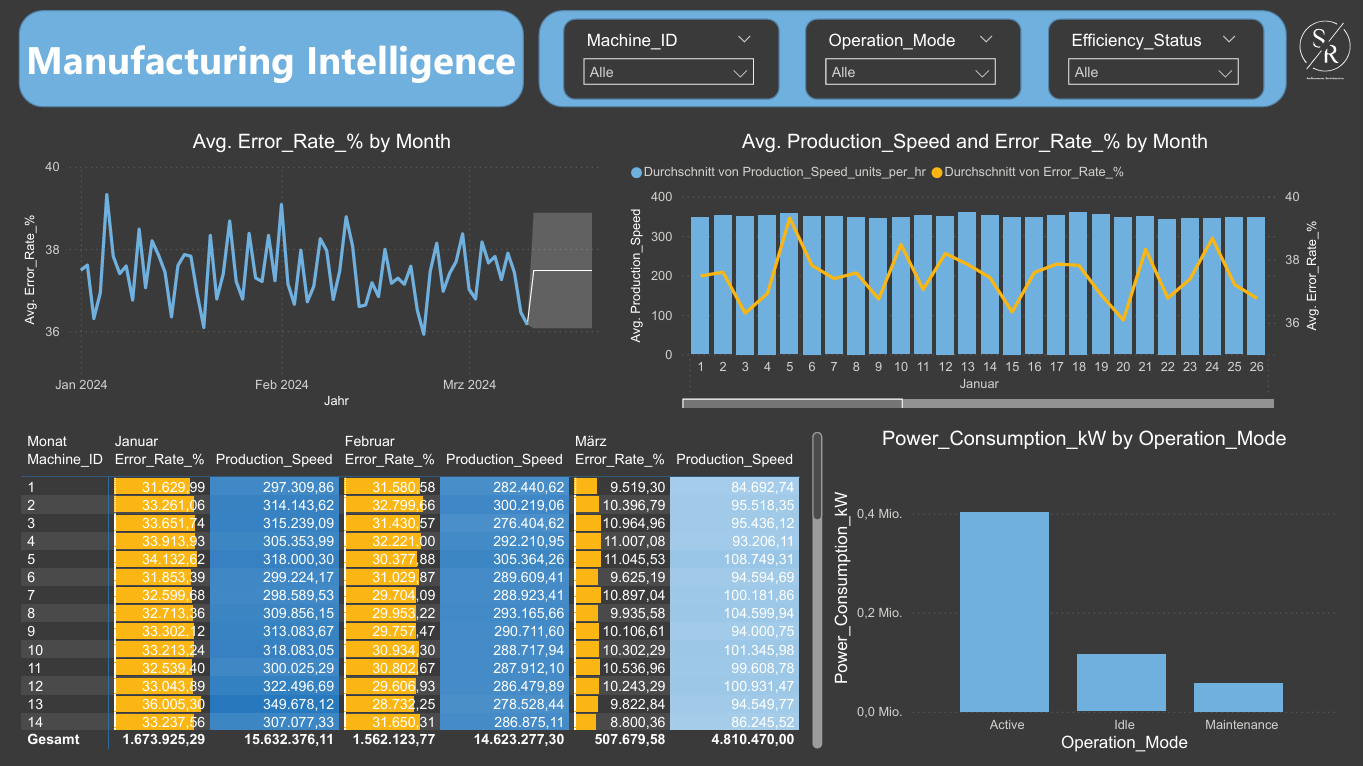

This screenshot's page, from the dashboard's own definition file:
{"tool":"powerbi","page":{"name":"Error_rate","canvas":[1280,720],"ordinal":2},"visuals":[{"type":"lineChart","title":"Avg. Error_Rate_% by Month","fields":{"Category":["Intelligent Manufacturing.Timestamp.Variation.Datumshierarchie.Jahr","Intelligent Manufacturing.Timestamp.Variation.Datumshierarchie.Quartal","Intelligent Manufacturing.Timestamp.Variation.Datumshierarchie.Monat","Intelligent Manufacturing.Timestamp.Variation.Datumshierarchie.Tag"],"Y":["Avg(Intelligent Manufacturing.Error_Rate_%)"]},"box":[18.1,122.1,569.2,265.6],"z":0},{"type":"shape","box":[529.4,17.9,202.9,75.9],"z":1000,"group":"g1"},{"type":"lineClusteredColumnComboChart","title":"Avg. Production_Speed and Error_Rate_% by Month","fields":{"Category":["Intelligent Manufacturing.Timestamp.Variation.Datumshierarchie.Monat","Intelligent Manufacturing.Timestamp.Variation.Datumshierarchie.Tag"],"Y":["Avg(Intelligent Manufacturing.Production_Speed_units_per_hr)"],"Y2":["Avg(Intelligent Manufacturing.Error_Rate_%)"]},"box":[587.3,122.1,656.6,265.6],"z":1000},{"type":"slicer","fields":{"Values":["Intelligent Manufacturing.Machine_ID"]},"box":[538.7,25.2,179.3,62.9],"z":2000,"group":"g1"},{"type":"pivotTable","fields":{"Values":["Sum(Intelligent Manufacturing.Error_Rate_%)","Sum(Intelligent Manufacturing.Production_Speed_units_per_hr)"],"Rows":["Intelligent Manufacturing.Machine_ID"],"Columns":["Intelligent Manufacturing.Timestamp.Variation.Datumshierarchie.Monat","Intelligent Manufacturing.Timestamp.Variation.Datumshierarchie.Tag"]},"box":[16.5,400.9,760.6,306.9],"z":2000},{"type":"clusteredColumnChart","title":"Power_Consumption_kW by Operation_Mode","fields":{"Y":["Sum(Intelligent Manufacturing.Power_Consumption_kW)"],"Category":["Intelligent Manufacturing.Operation_Mode"]},"box":[777.1,400.9,481.7,310.2],"z":3000},{"type":"image","box":[1208.4,0,71.5,93.7],"z":4000},{"type":"shape","box":[506.5,9.9,701.2,90.7],"z":5000},{"type":"shape","box":[18.1,9.9,473.5,90.7],"z":6000},{"type":"group","id":"g1","title":"Gruppe 1","box":[529.4,17.9,202.9,75.9],"z":7000},{"type":"group","id":"g2","title":"Gruppe 2","box":[756.4,17.5,202.9,75.9],"z":8000},{"type":"shape","box":[756.4,17.5,202.9,75.9],"z":9000,"group":"g2"},{"type":"group","id":"g3","title":"Gruppe 3","box":[983.5,18.1,202.9,75.9],"z":9000},{"type":"slicer","fields":{"Values":["Intelligent Manufacturing.Operation_Mode"]},"box":[765.7,24.8,179.3,62.9],"z":10000,"group":"g2"},{"type":"shape","box":[983.5,18.1,202.9,75.9],"z":11000,"group":"g3"},{"type":"slicer","fields":{"Values":["Intelligent Manufacturing.Efficiency_Status"]},"box":[992.8,25.4,179.3,62.9],"z":12000,"group":"g3"}]}

Visuals, with their boxes in screenshot pixels (x1, y1, x2, y2), scaled from the page's 1280x720 canvas onto the 1363x766 screenshot:
"Avg. Error_Rate_% by Month" lineChart: Rect(19, 130, 625, 412)
shape: Rect(564, 19, 780, 100)
"Avg. Production_Speed and Error_Rate_% by Month" lineClusteredColumnComboChart: Rect(625, 130, 1325, 412)
slicer - Intelligent Manufacturing.Machine_ID: Rect(574, 27, 765, 94)
pivotTable - Sum(Intelligent Manufacturing.Error_Rate_%) x Sum(Intelligent Manufacturing.Production_Speed_units_per_hr): Rect(18, 427, 827, 753)
"Power_Consumption_kW by Operation_Mode" clusteredColumnChart: Rect(827, 427, 1340, 757)
image: Rect(1287, 0, 1362, 100)
shape: Rect(539, 11, 1286, 107)
shape: Rect(19, 11, 523, 107)
"Gruppe 1" group: Rect(564, 19, 780, 100)
"Gruppe 2" group: Rect(805, 19, 1022, 99)
shape: Rect(805, 19, 1022, 99)
"Gruppe 3" group: Rect(1047, 19, 1263, 100)
slicer - Intelligent Manufacturing.Operation_Mode: Rect(815, 26, 1006, 93)
shape: Rect(1047, 19, 1263, 100)
slicer - Intelligent Manufacturing.Efficiency_Status: Rect(1057, 27, 1248, 94)
